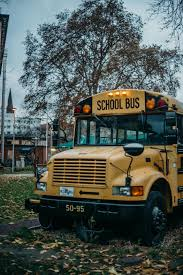bus: (28, 88, 183, 244)
